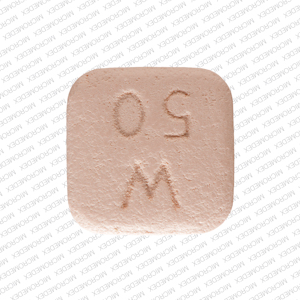Square: (65, 67, 233, 235)
